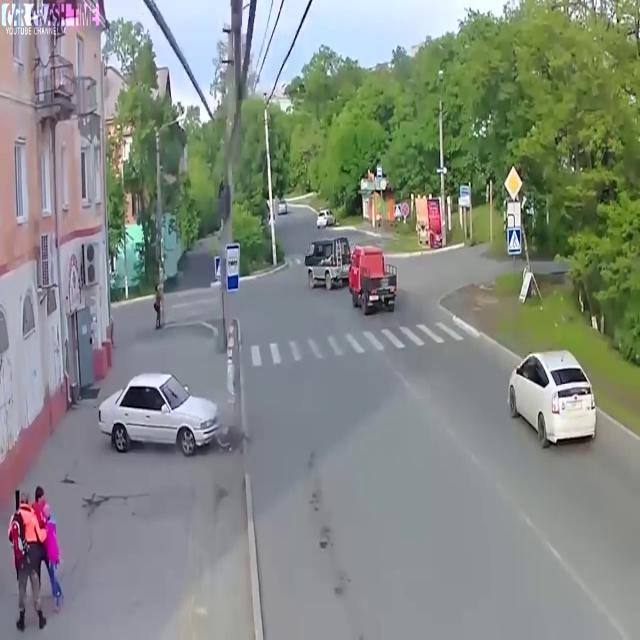Accident: (110, 354, 242, 472)
